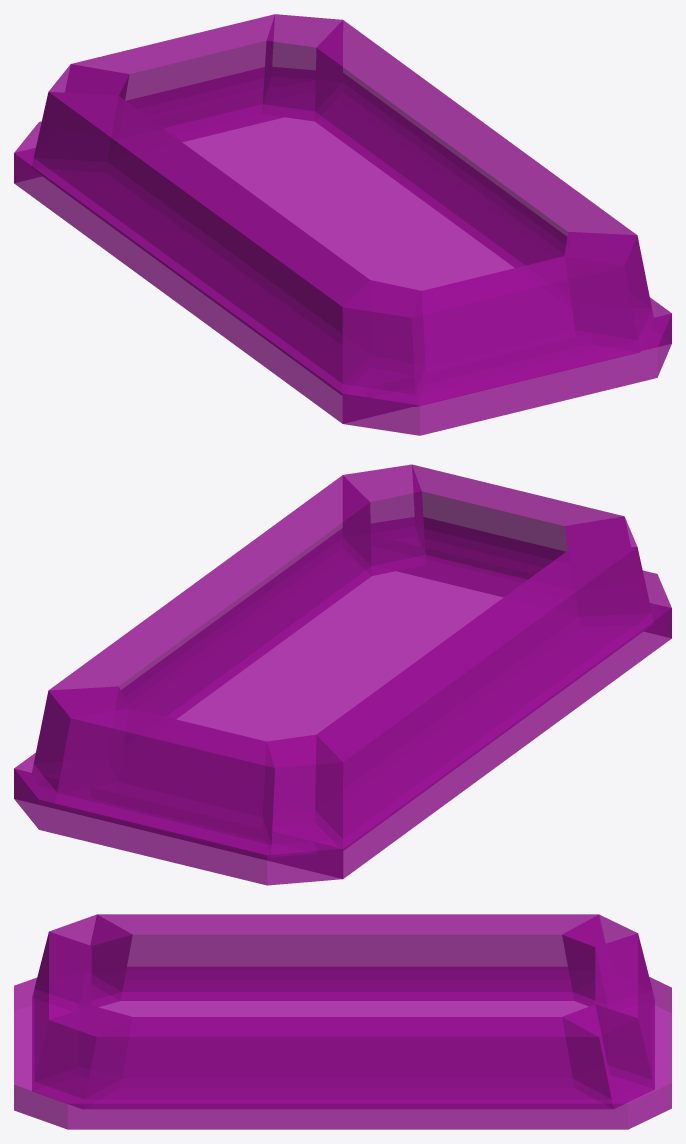
File: SM_Prop_Cryopod_Storage_Bay_01_Collision.fbx
3 renders of one model, top to bottom at view 1: azimuth 30°, elevation 25°; view 2: azimuth 150°, elevation 25°; view 3: azimuth 270°, elevation 25°, orthographic. The views are drawn at different scales.
Visible parts, largest first — view 1: SM_Prop_Cryopod_Storage_Bay_01_Collision; view 2: SM_Prop_Cryopod_Storage_Bay_01_Collision; view 3: SM_Prop_Cryopod_Storage_Bay_01_Collision.
Boxes of the visible parts, x1=… form: SM_Prop_Cryopod_Storage_Bay_01_Collision: x1=14, y1=14, x2=671, y2=435; SM_Prop_Cryopod_Storage_Bay_01_Collision: x1=14, y1=464, x2=671, y2=885; SM_Prop_Cryopod_Storage_Bay_01_Collision: x1=14, y1=914, x2=671, y2=1129.
Size of the model in its own units: 168 by 48.64 by 340.
